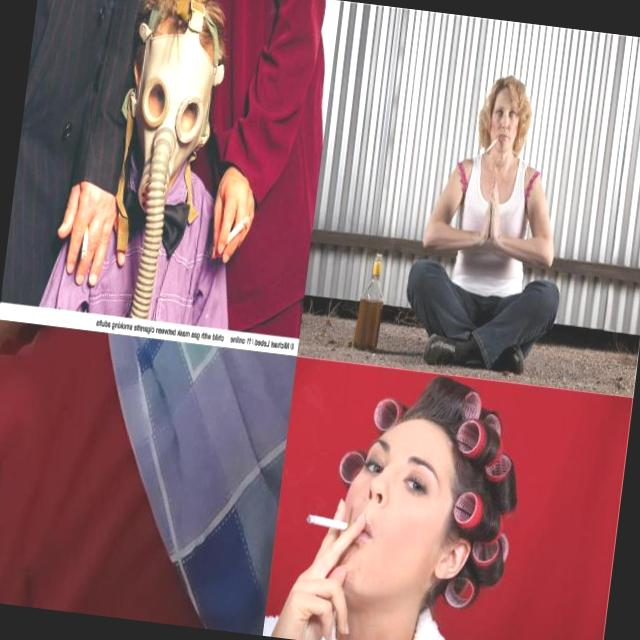smoke: (218, 212, 250, 250), (304, 513, 356, 533), (482, 132, 500, 156), (80, 225, 89, 261)
